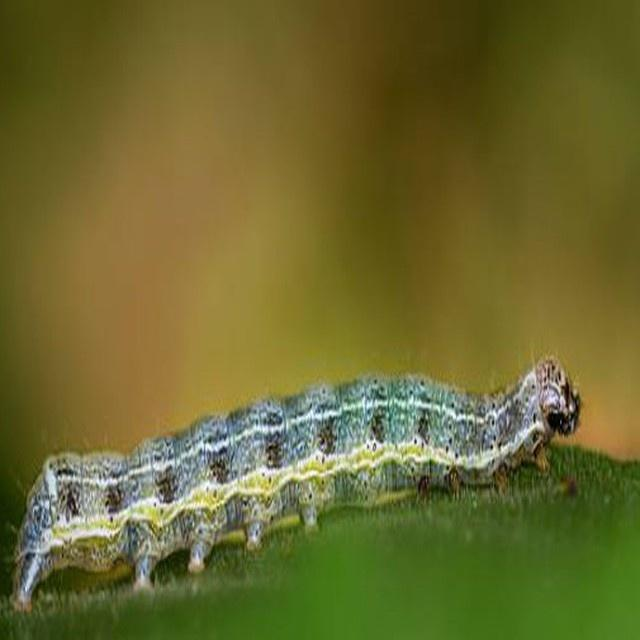gusano_cogollero: (5, 348, 588, 618)
